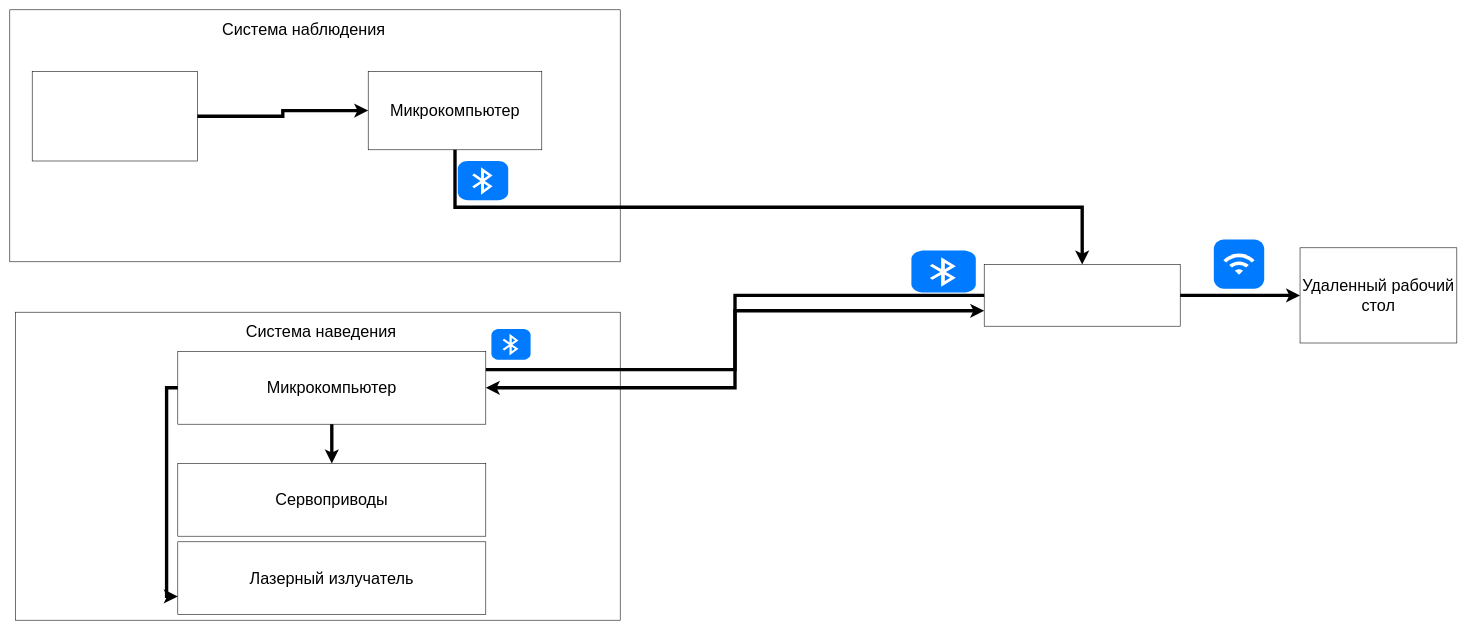
The diagram is 1467 pixels wide and 630 high, and some of its shapes have lost their labels. The centre of each missing label's shape, as x and y in pixels:
"Главный микрокомпьютер" goes at point (1082, 295).
"Камера" goes at point (114, 116).
